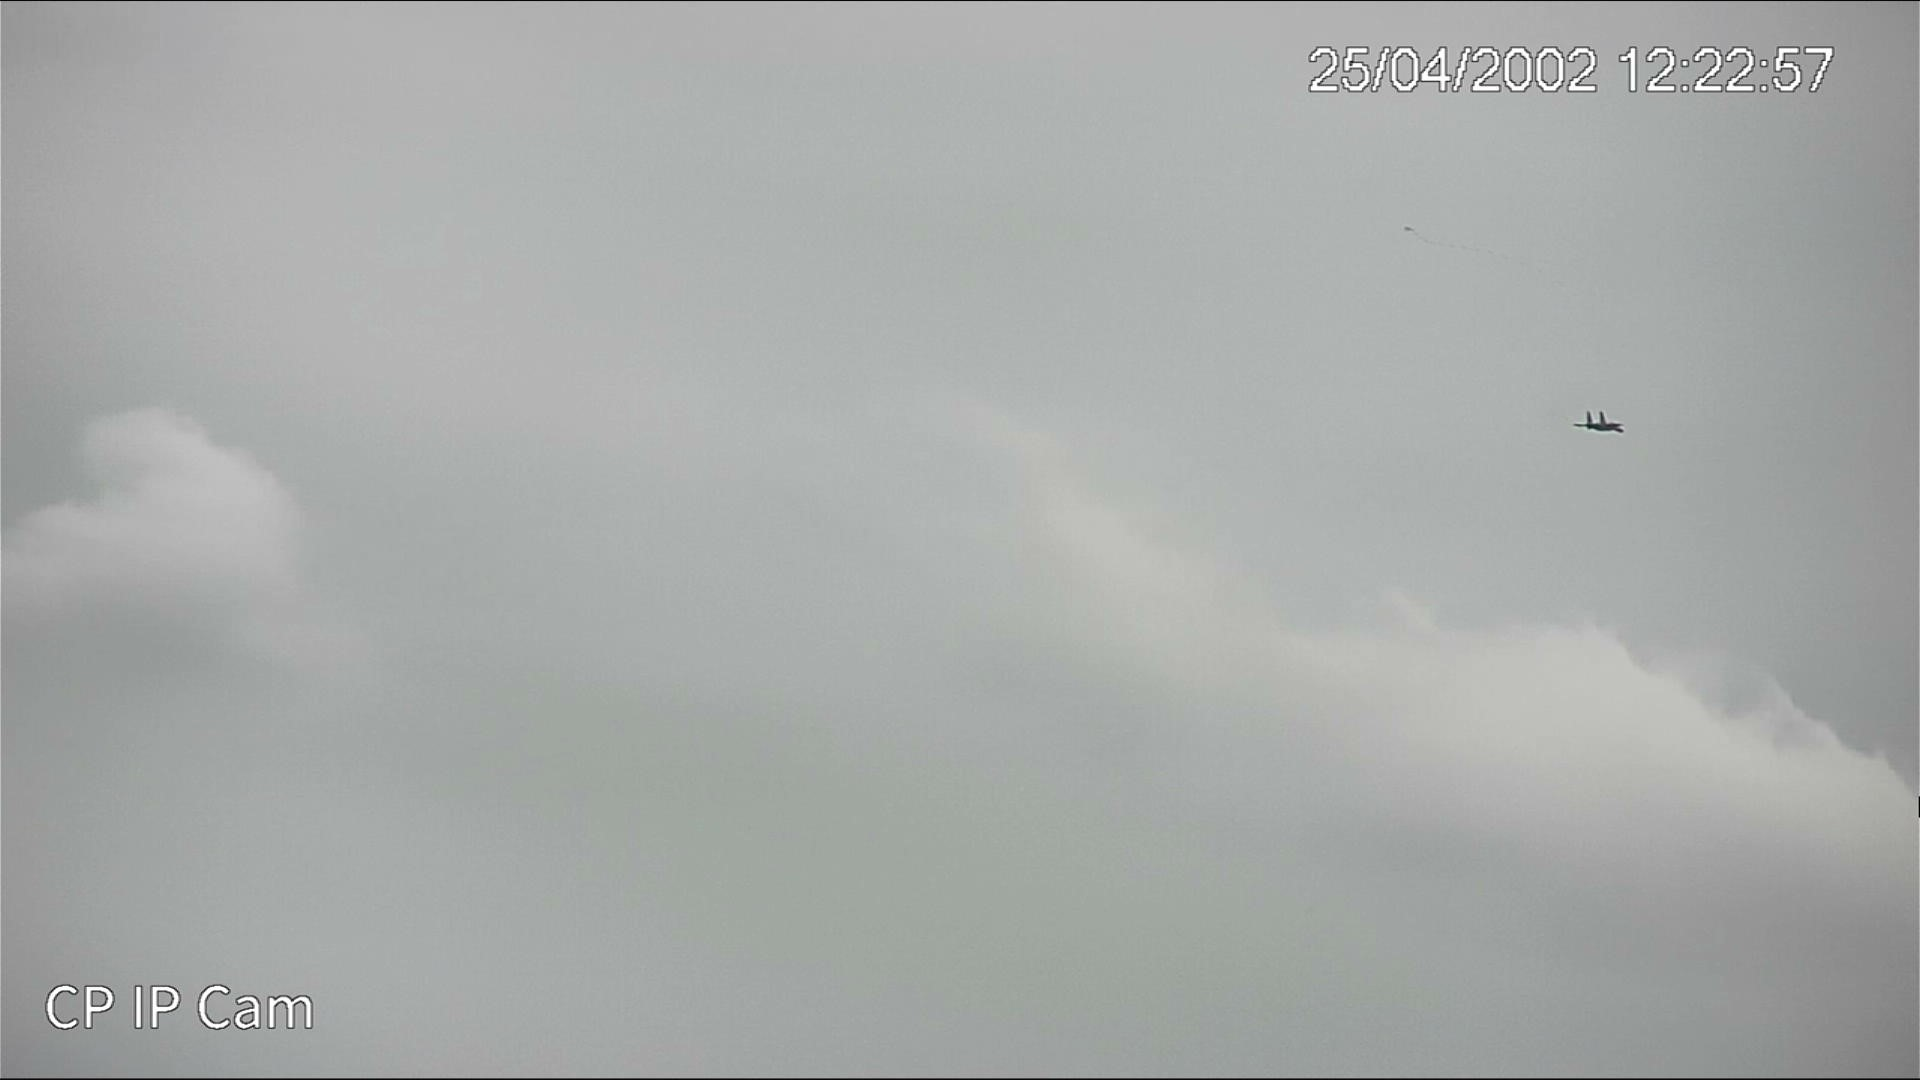SU_30: (1569, 411, 1629, 433)
